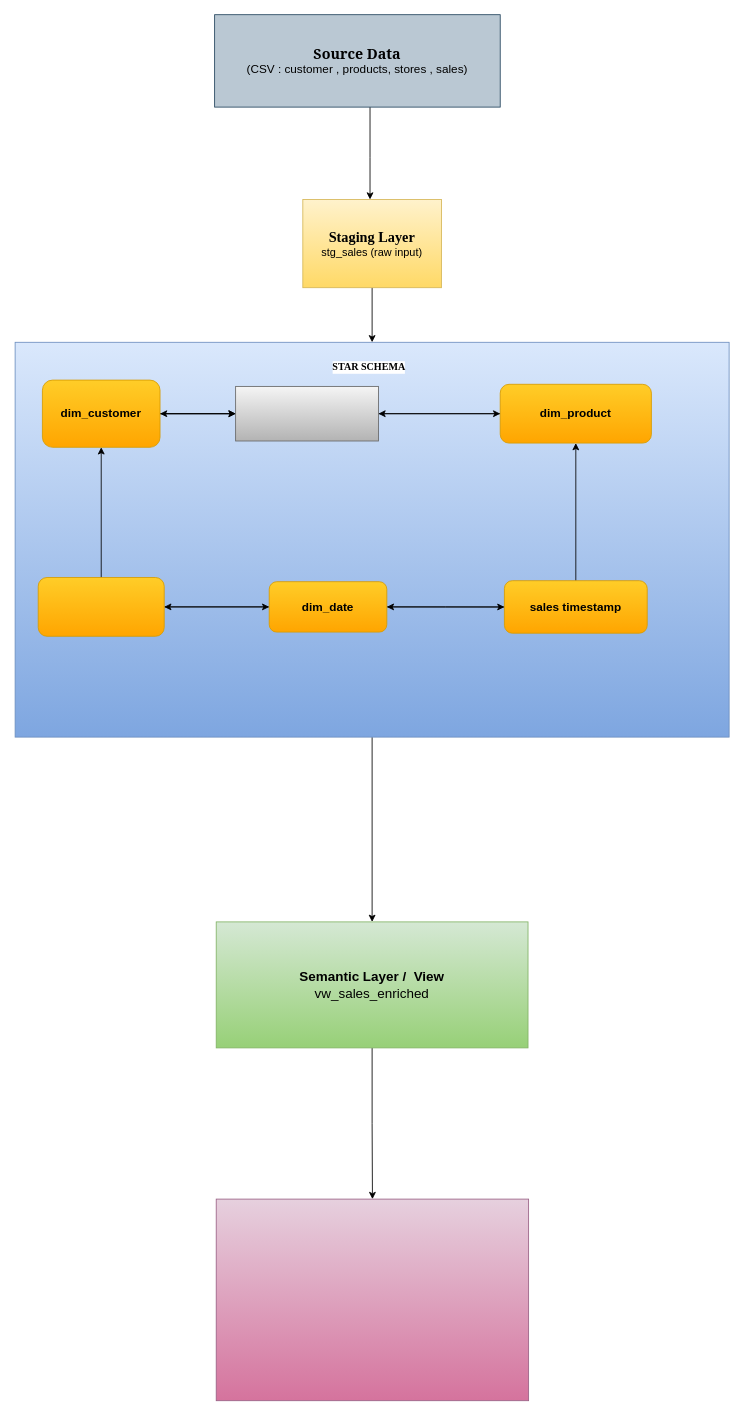
Some shapes in this 743 by 1415 pixel diagram are drawn without their labels. Here are the shapes that lost their labels. From the top down, the box of each, then its label:
(235, 386, 378, 441): fact_sales
(37, 577, 164, 636): dim_store
(215, 1198, 529, 1401): KPI Queries (05_kpis.sql: revenue , top products, regions, trends)
